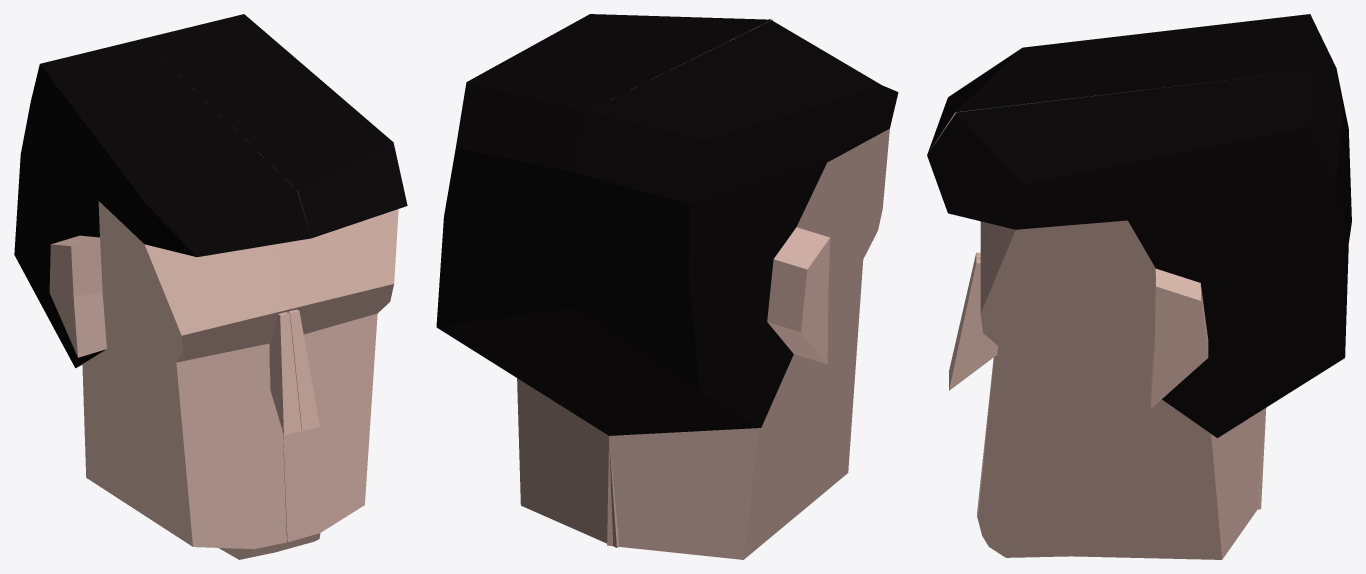
The model's file is head2.gltf.
3 renders of one model, left to right at view 1: azimuth 30°, elevation 25°; view 2: azimuth 150°, elevation 25°; view 3: azimuth 270°, elevation 25°, orthographic. The views are drawn at different scales.
Parts seen in each view (by area): view 1: Cube.001; view 2: Cube.001; view 3: Cube.001.
Boxes of the visible parts, <box> form: Cube.001: <box>14,14,407,559</box>; Cube.001: <box>436,14,898,559</box>; Cube.001: <box>927,14,1351,559</box>.
Bounding box in the file's own units: 0.139 × 0.1975 × 0.1621.
